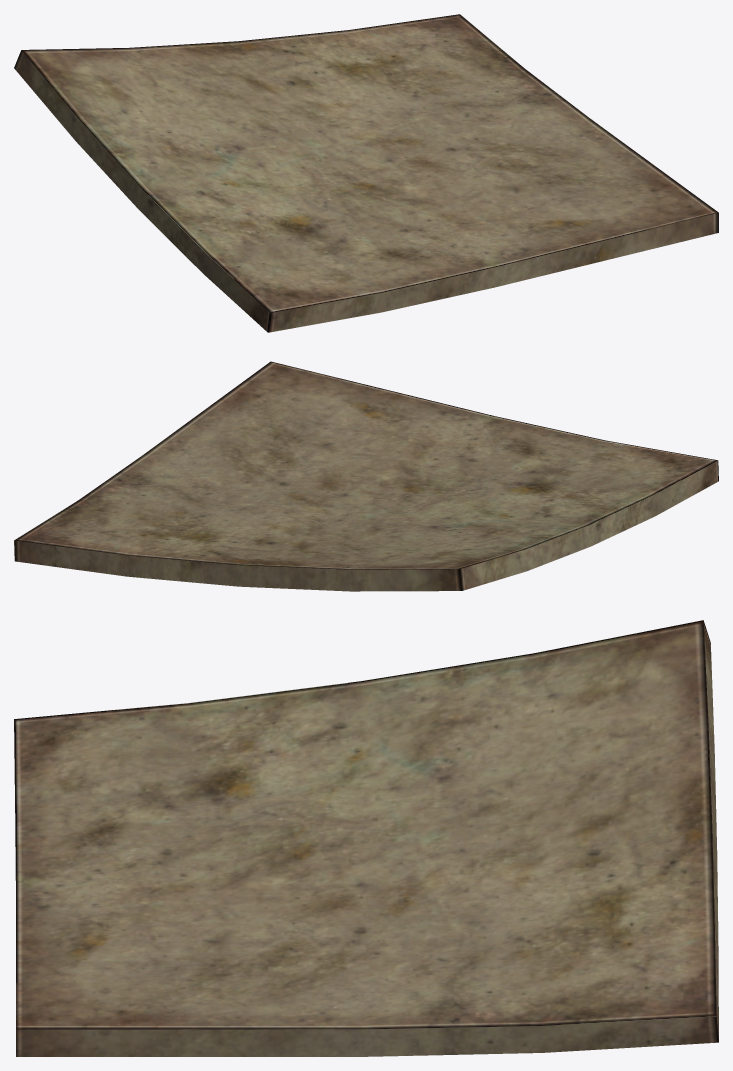
File: pplant_ground_default_damaged02.dae
3 renders of one model, top to bottom at view 1: azimuth 30°, elevation 25°; view 2: azimuth 150°, elevation 25°; view 3: azimuth 270°, elevation 25°, orthographic. The views are drawn at different scales.
Parts seen in each view (by area): view 1: ground_default_damaged02; view 2: ground_default_damaged02; view 3: ground_default_damaged02.
Part boxes in pixels (x1=…): ground_default_damaged02: x1=14, y1=14, x2=718, y2=332; ground_default_damaged02: x1=14, y1=361, x2=718, y2=591; ground_default_damaged02: x1=14, y1=620, x2=718, y2=1056.
Size of the model in its own units: 2.01 by 0.4492 by 2.01.
